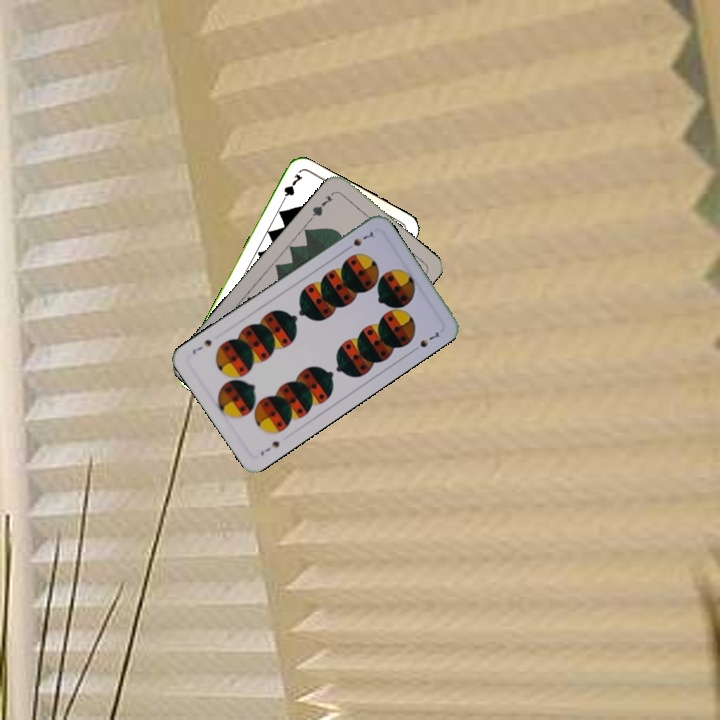G7: (276, 169, 305, 207), (307, 192, 336, 222)
S7: (341, 227, 376, 253), (256, 437, 282, 458)
